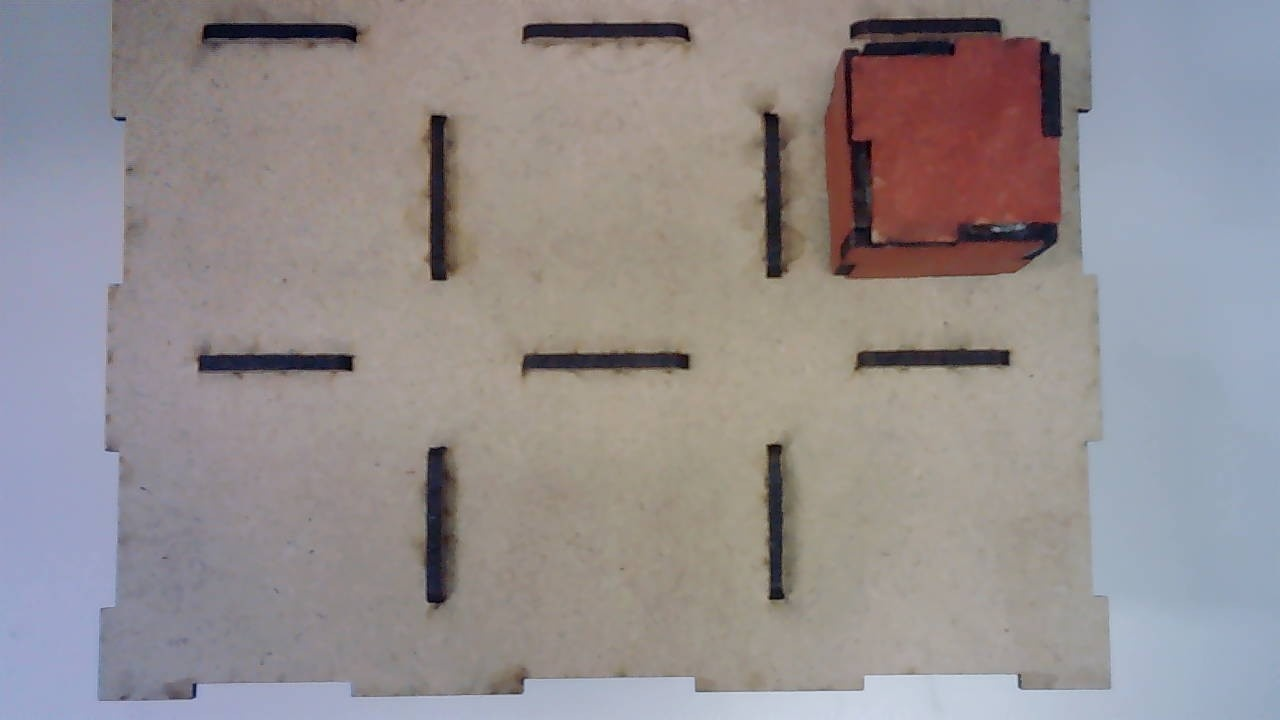red box: (823, 36, 1063, 282)
